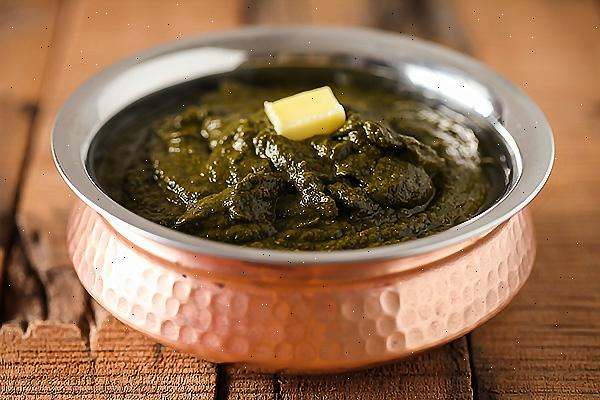saag: (128, 82, 493, 251)
